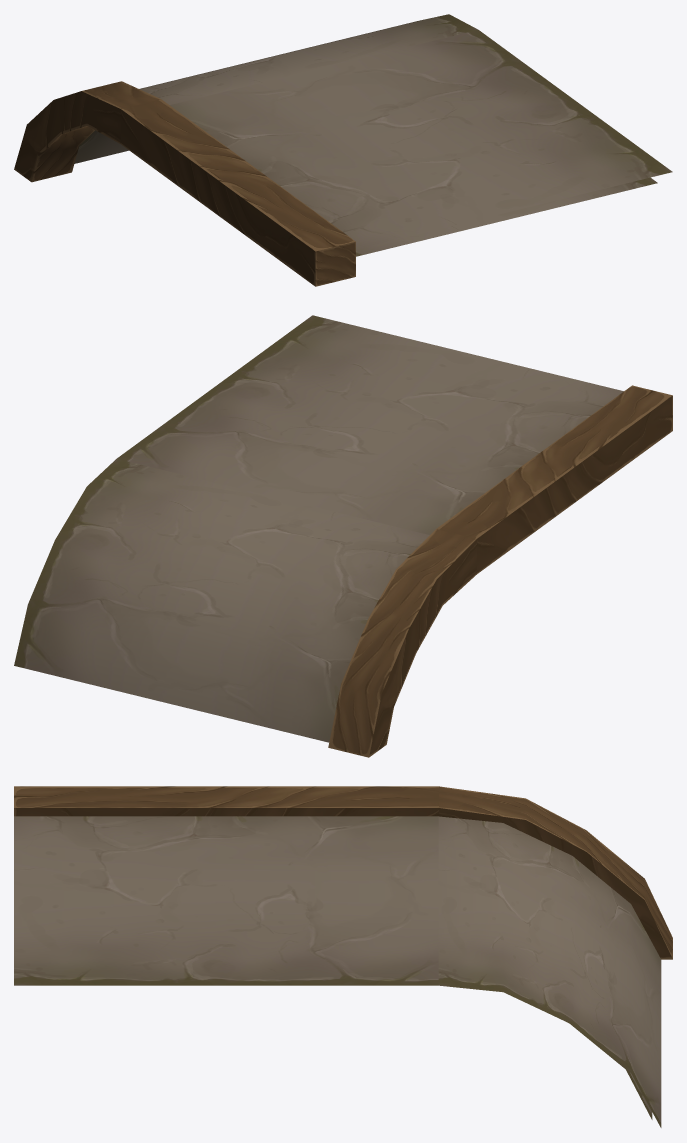
File: Ceiling_1_1.FBX
The picture shows the model from 3 angles, top to bottom: view 1: azimuth 30°, elevation 25°; view 2: azimuth 150°, elevation 25°; view 3: azimuth 270°, elevation 25°; orthographic projection. The views are drawn at different scales.
Parts seen in each view (by area): view 1: Ceiling_1_1; view 2: Ceiling_1_1; view 3: Ceiling_1_1.
Boxes of the visible parts, bbox=[...] form: Ceiling_1_1: bbox=[14, 14, 672, 286]; Ceiling_1_1: bbox=[14, 315, 672, 757]; Ceiling_1_1: bbox=[14, 786, 672, 1127].
Size of what is drawn, in the model's own units: 212 by 310 by 78.6.
